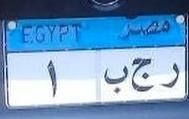1: (44, 59, 61, 99)
baa: (102, 64, 129, 96)
jeem: (130, 57, 157, 96)
raa: (159, 60, 181, 93)
